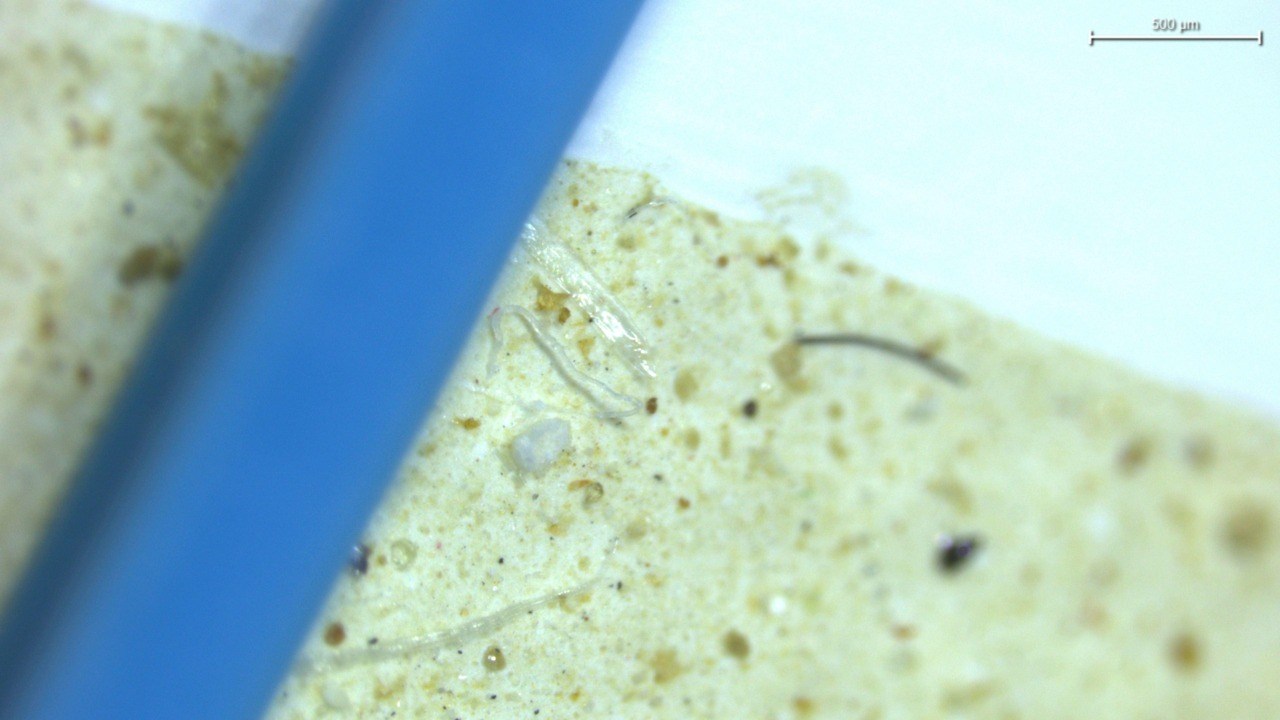microplastic_fragment: (511, 418, 571, 472)
